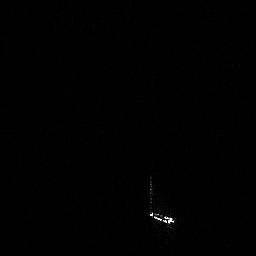ship: (145, 209, 176, 226)
